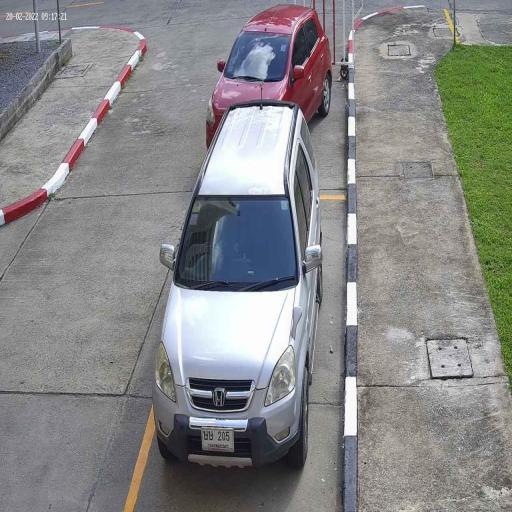car: (153, 103, 324, 476), (205, 5, 330, 140)
